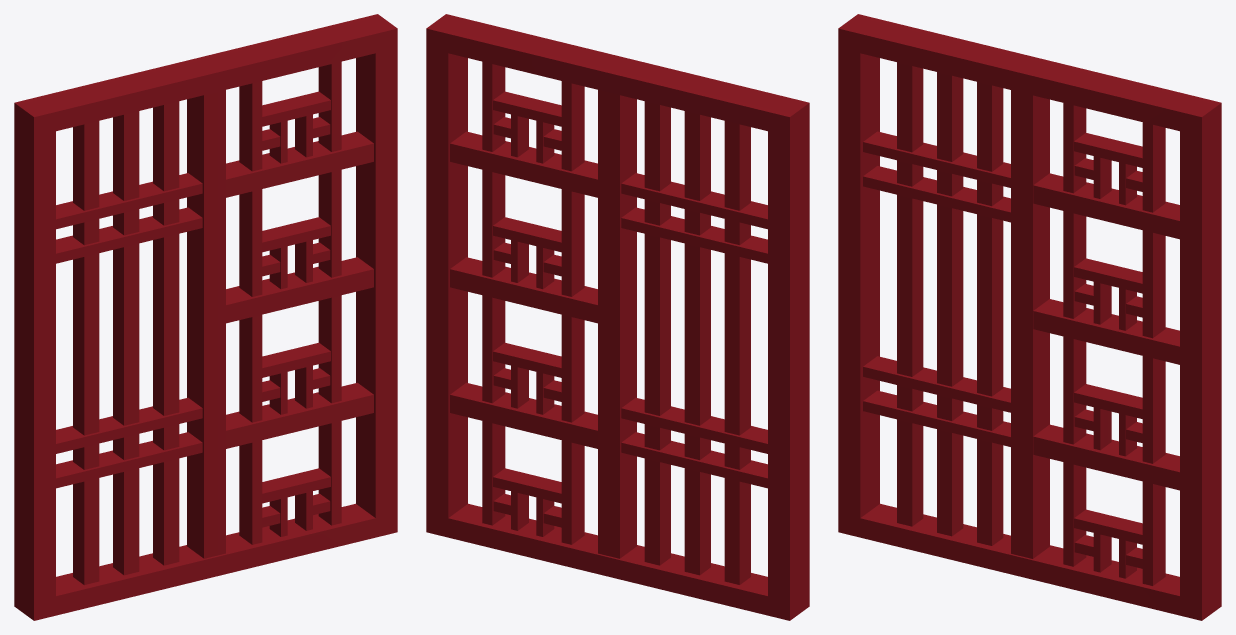
File: quaternius-sushi-restaurant-wall-redwood.glb
3 views of the same model, side by side, from view 1: azimuth 30°, elevation 25°; view 2: azimuth 150°, elevation 25°; view 3: azimuth 330°, elevation 25° (orthographic).
Parts seen in each view (by area): view 1: Wall_RedWood; view 2: Wall_RedWood; view 3: Wall_RedWood.
Part boxes in pixels (x1,y1,x2,y2): Wall_RedWood: (14, 14, 397, 620); Wall_RedWood: (426, 14, 809, 620); Wall_RedWood: (838, 14, 1221, 620).
Size of the model in its own units: 3.75 by 4.96 by 0.3544.
Materials: 1 (1 with a texture image).
